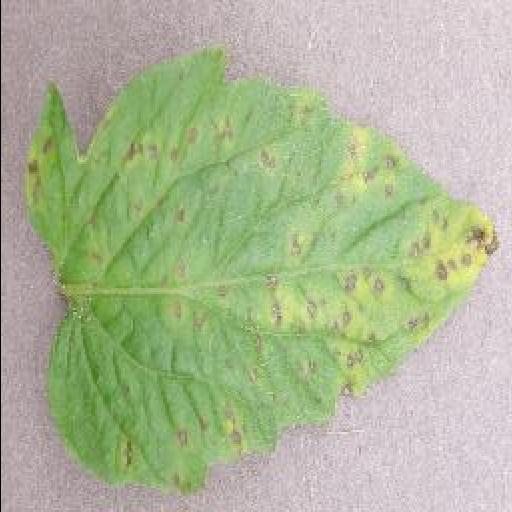disease_tomato: (26, 52, 496, 496)
